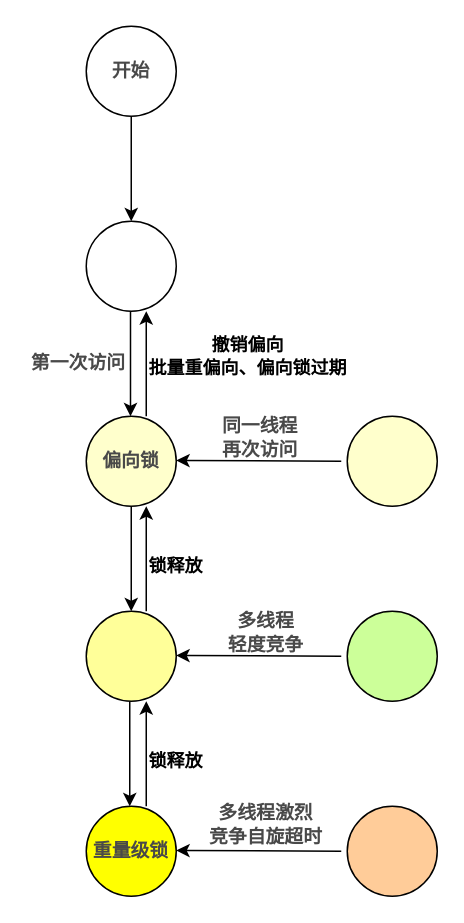
Some shapes in this 464 by 923 pixel diagram are drawn without their labels. Here are the shapes that lost their labels. From the top down, the box of each, then its label:
(85, 220, 176, 311): 无锁状态
(85, 610, 176, 701): 轻量级锁
